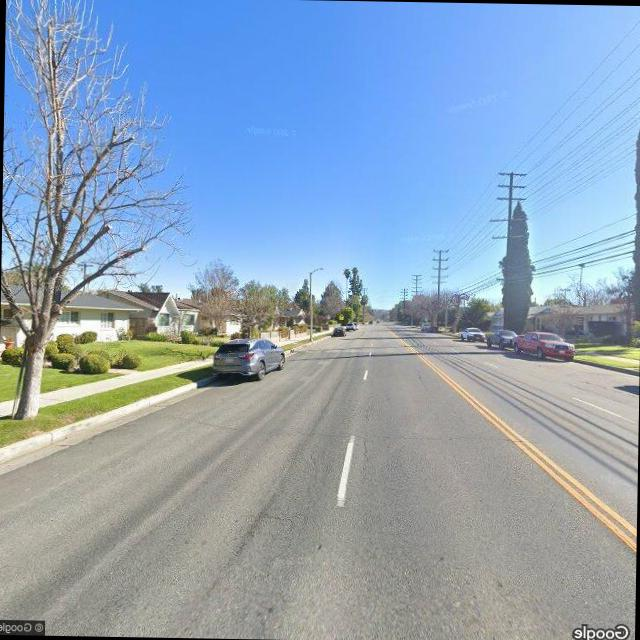crack: (139, 408, 536, 446)
